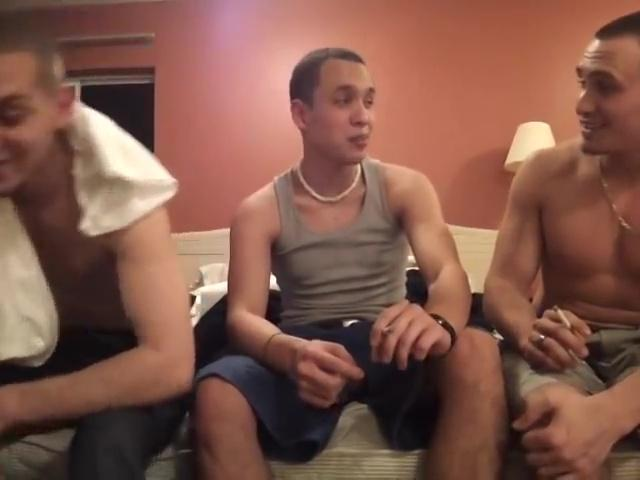cigarette: (552, 302, 575, 333)
